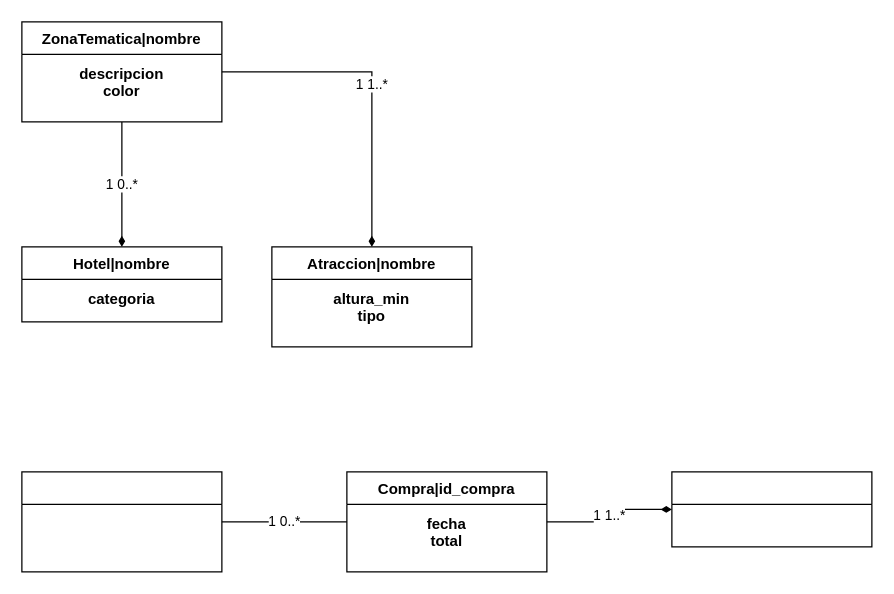
Image size: 894x594. Some labels were removed from this diagram. Each missing label, with the centre of its shape:
"Entrada|id_entrada fecha_validez" goes at (x=771, y=509).
"Visitante|dni nombre email" goes at (x=121, y=521).
